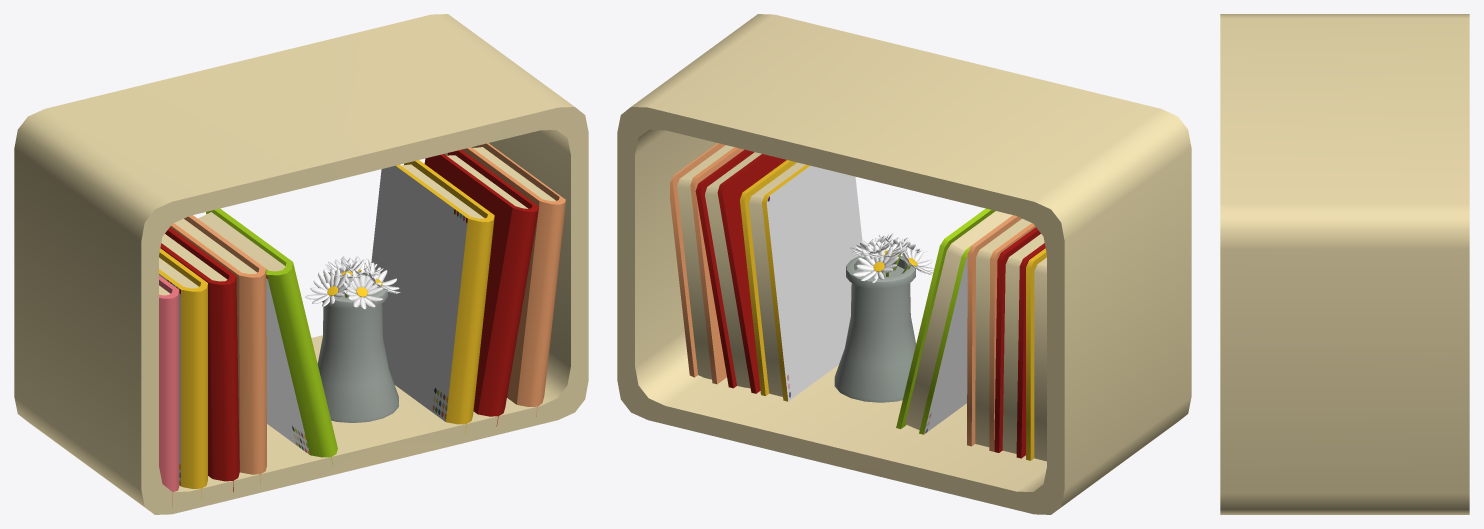
File: Modular_bookshelf_part_6.FBX
3 renders of one model, left to right at view 1: azimuth 30°, elevation 25°; view 2: azimuth 150°, elevation 25°; view 3: azimuth 270°, elevation 25°, orthographic.
Parts seen in each view (by area): view 1: Modular_bookshelf_part_6; view 2: Modular_bookshelf_part_6; view 3: Modular_bookshelf_part_6.
Part boxes in pixels (x1,y1,x2,y2): Modular_bookshelf_part_6: (14, 14, 588, 514); Modular_bookshelf_part_6: (617, 14, 1191, 514); Modular_bookshelf_part_6: (1220, 14, 1469, 514).
Bounding box in the file's own units: 46.44 × 31.02 × 22.84.
Materials: 1 (1 with a texture image).
